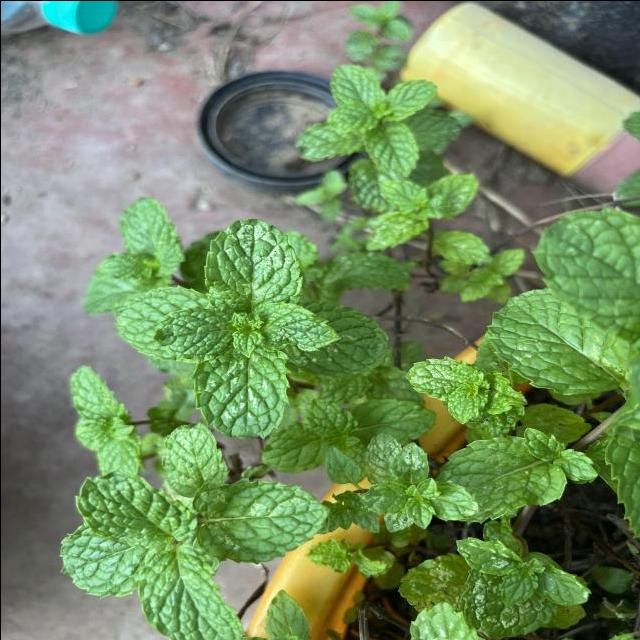Mentha spicata: (200, 476, 328, 564), (187, 346, 294, 438), (201, 216, 304, 310), (70, 466, 184, 546), (153, 304, 240, 361), (406, 353, 481, 401)
